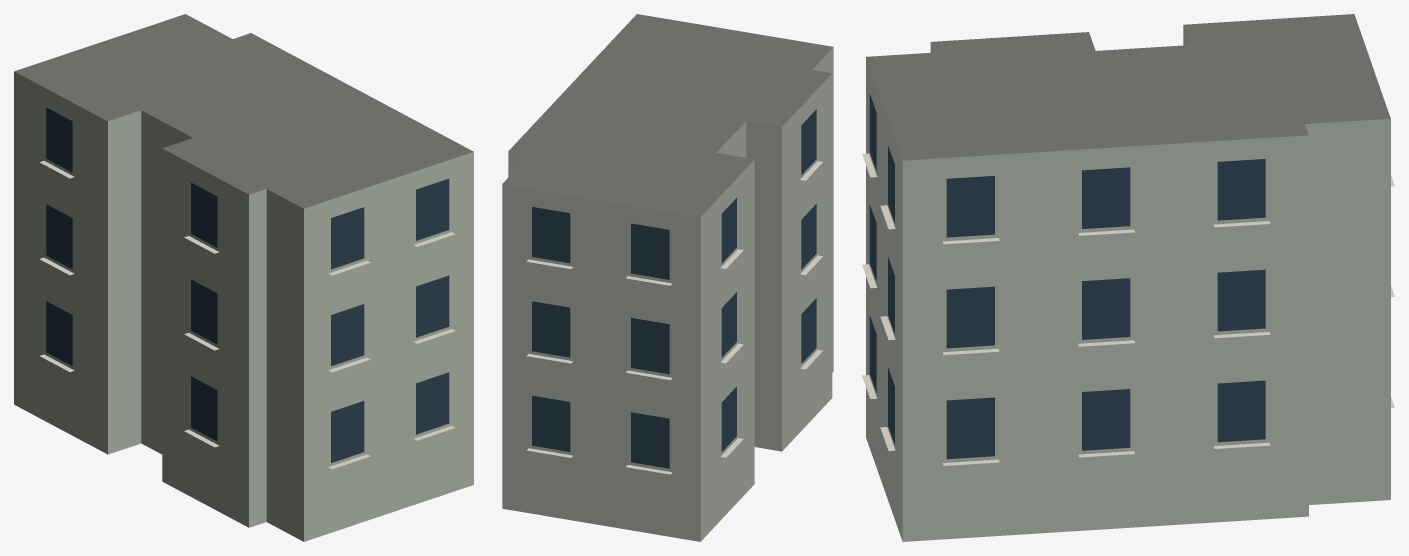
3 renders of one model, left to right at view 1: azimuth 30°, elevation 25°; view 2: azimuth 150°, elevation 25°; view 3: azimuth 270°, elevation 25°, orthographic. The views are drawn at different scales.
Visible parts, largest first — view 1: Footprint 0, Inferred window bays, Window sills; view 2: Footprint 0, Inferred window bays, Window sills; view 3: Footprint 0, Inferred window bays, Window sills.
Boxes of the visible parts, x1,y1,x2,y2 form: Footprint 0: (14,14,473,541); Inferred window bays: (46,107,449,462); Window sills: (39,161,455,469); Footprint 0: (502,14,833,541); Inferred window bays: (532,109,816,468); Window sills: (527,161,822,474); Footprint 0: (866,14,1390,541); Inferred window bays: (869,93,1265,459); Window sills: (862,153,1394,465).
Bounding box in the file's own units: 8.93 × 10.7 × 13.56.
